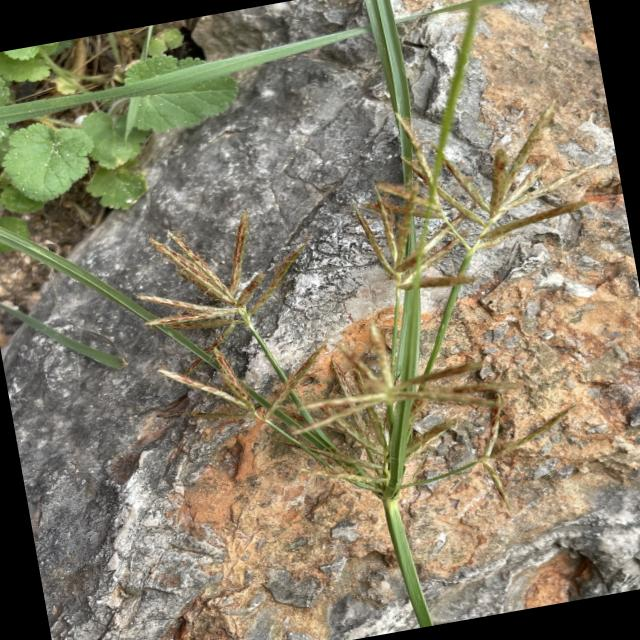cyperus: (107, 69, 640, 531)
